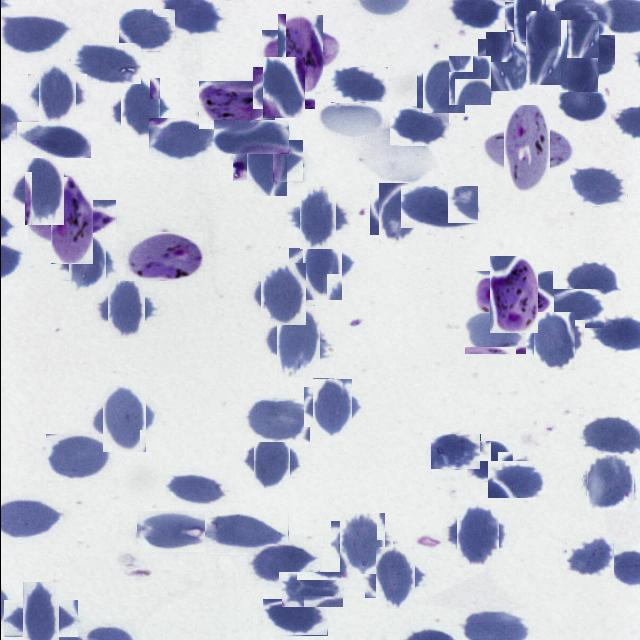difficult: (268, 22, 330, 84)
red blood cell: (269, 313, 327, 371), (204, 514, 288, 554), (400, 186, 478, 229), (15, 160, 72, 217), (549, 27, 606, 84), (238, 132, 294, 188), (45, 434, 111, 480), (136, 511, 210, 552), (516, 20, 570, 76), (148, 118, 219, 160), (96, 391, 150, 446), (256, 268, 310, 322), (334, 516, 388, 570), (243, 398, 309, 442), (70, 43, 140, 84), (247, 544, 320, 583), (373, 187, 426, 240), (530, 289, 602, 328), (295, 241, 347, 294), (481, 36, 534, 88), (16, 121, 90, 158), (450, 509, 502, 561), (584, 456, 636, 508), (257, 62, 309, 114), (13, 591, 68, 640), (464, 312, 526, 355), (370, 552, 420, 604), (213, 120, 288, 154), (114, 84, 164, 134), (100, 284, 150, 334), (292, 192, 342, 242), (529, 316, 579, 366), (118, 9, 175, 52), (307, 382, 356, 432), (2, 16, 70, 52), (262, 599, 327, 636), (389, 106, 448, 146), (32, 69, 81, 117), (568, 166, 626, 206), (247, 436, 295, 484), (63, 238, 111, 286), (418, 63, 466, 111), (281, 572, 343, 608), (564, 533, 612, 579), (562, 260, 619, 298), (557, 86, 610, 126), (446, 58, 492, 104), (487, 461, 544, 498), (165, 472, 227, 506), (330, 67, 388, 103), (466, 441, 512, 482), (430, 434, 480, 470), (509, 0, 550, 39)
ring: (492, 116, 560, 182)
trophozoite: (38, 188, 103, 254), (482, 264, 544, 326), (124, 232, 202, 281), (198, 81, 274, 129)
